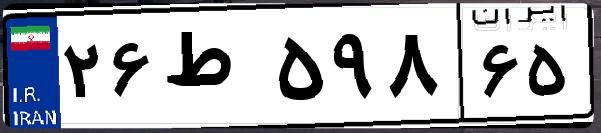2: (57, 26, 110, 100)
5: (270, 28, 330, 110), (525, 38, 570, 115)
6: (475, 38, 525, 113), (110, 28, 158, 98)
8: (385, 28, 445, 110)
9: (330, 28, 385, 110)
ط: (158, 20, 270, 120)
